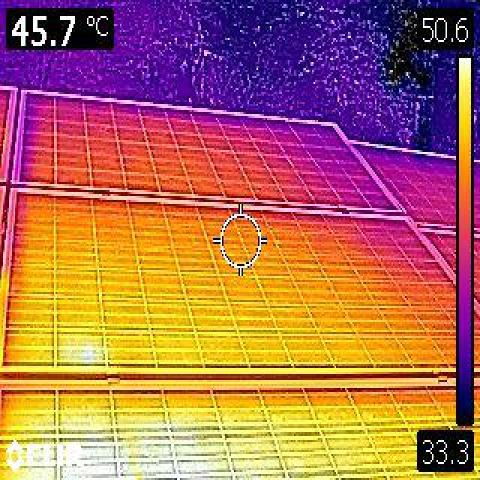fault: (18, 410, 276, 480), (57, 333, 103, 364)
